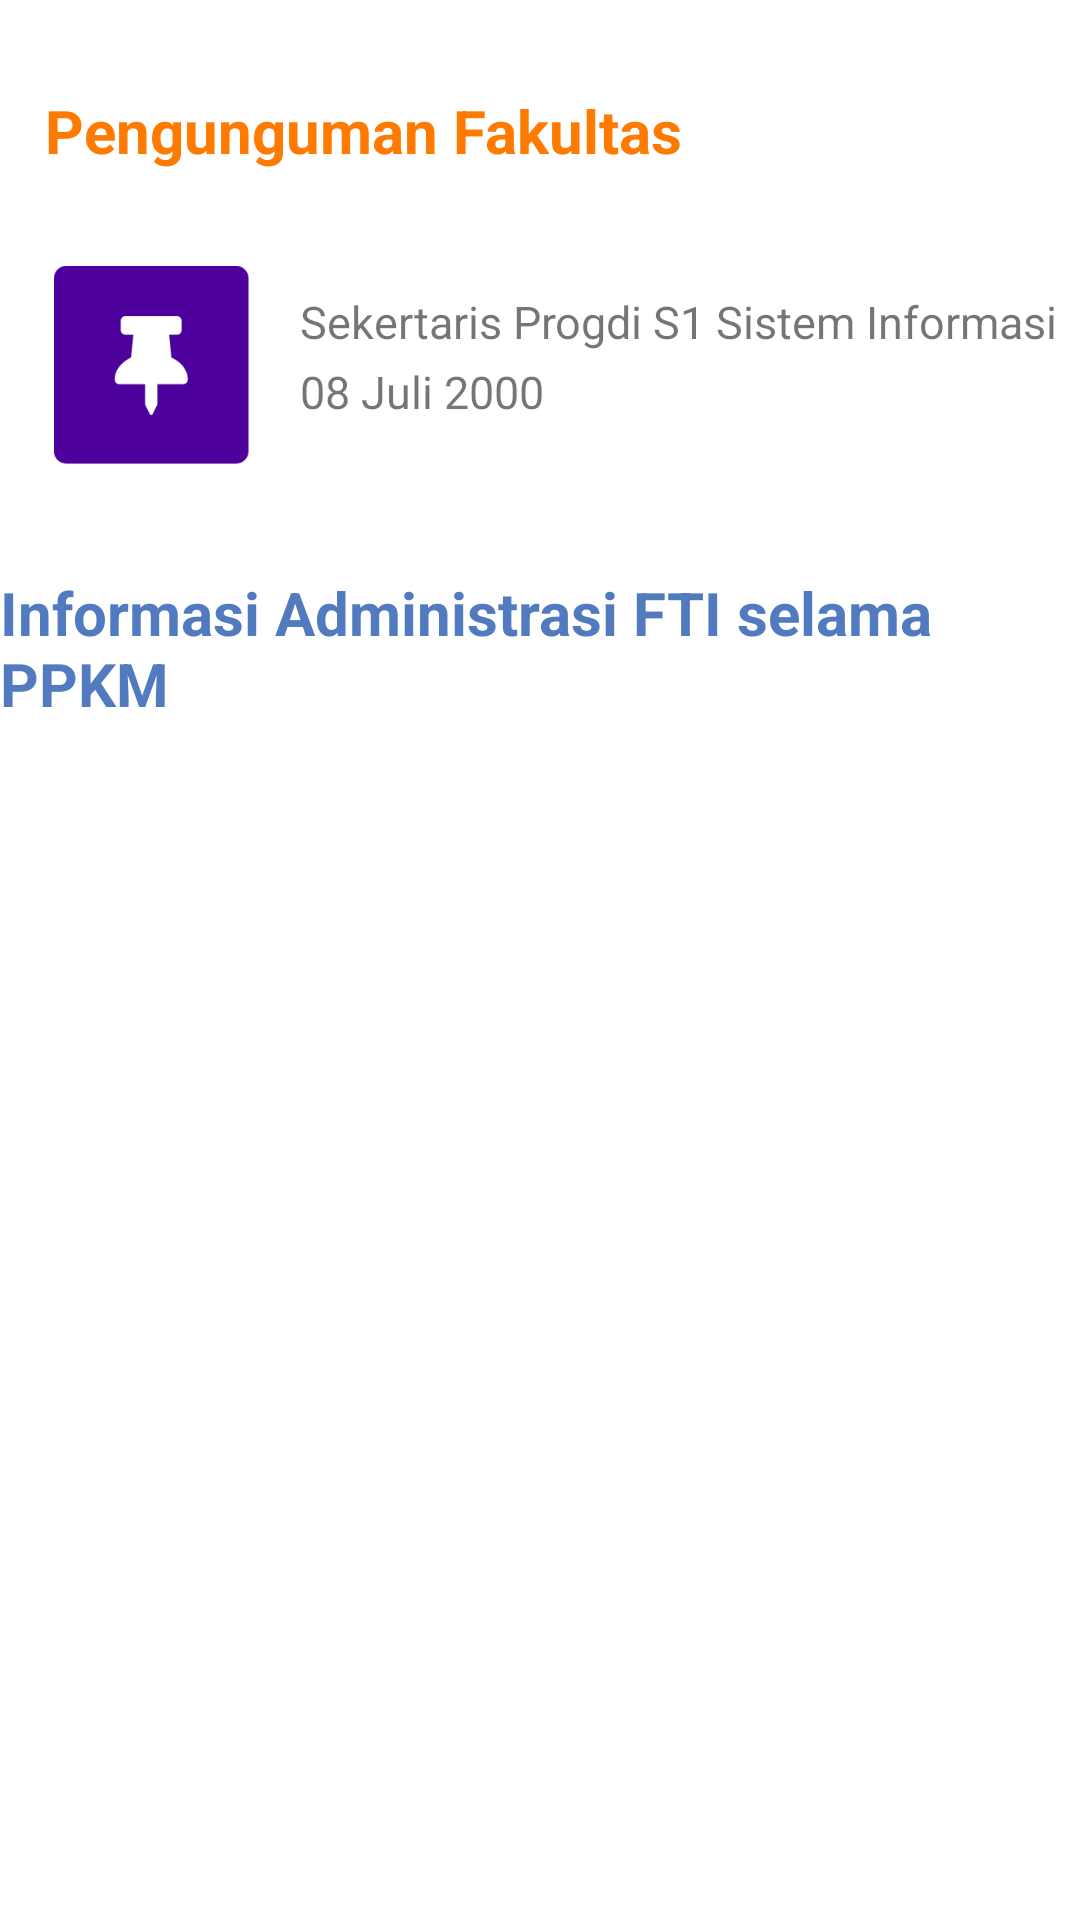

Where icons sit on this 1080px x 1920px app screen, as (x1, y1, x2, y2):
pin news: (54, 266, 249, 464)
